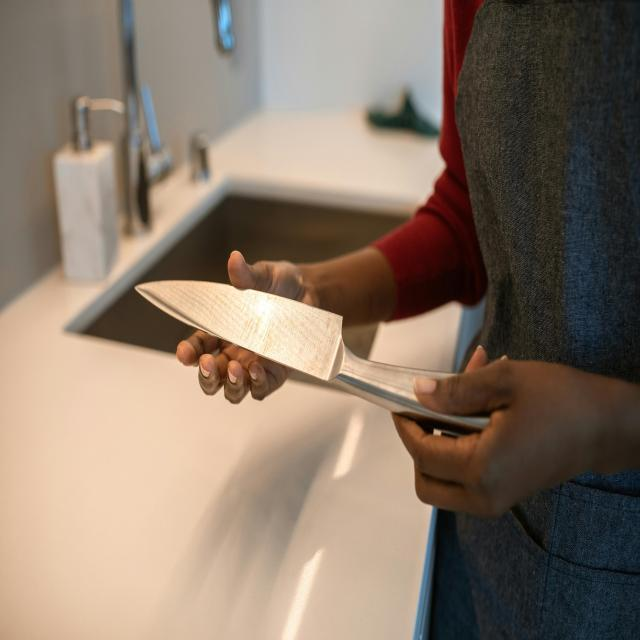knife: (137, 279, 496, 432)
